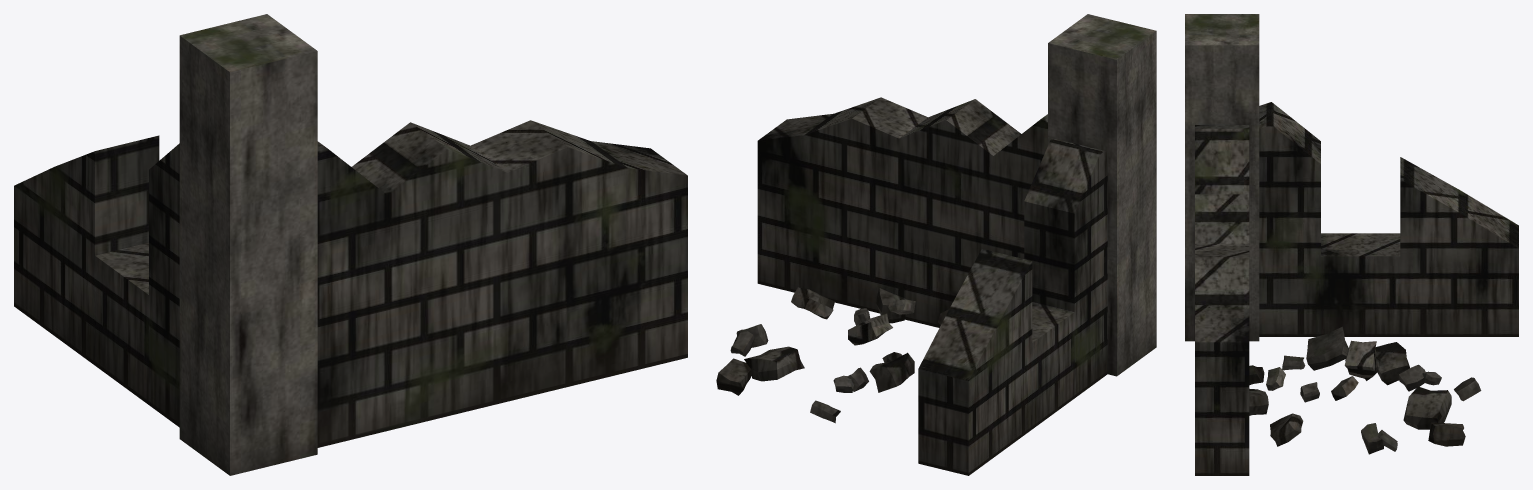
The model's file is ruin_wall_b.glb.
3 views of the same model, side by side, from view 1: azimuth 30°, elevation 25°; view 2: azimuth 150°, elevation 25°; view 3: azimuth 270°, elevation 25° (orthographic). The views are drawn at different scales.
Visible parts, largest first — view 1: ruin_wall_b; view 2: ruin_wall_b; view 3: ruin_wall_b.
Part boxes in pixels (x1=…): ruin_wall_b: x1=14, y1=14, x2=687, y2=475; ruin_wall_b: x1=716, y1=14, x2=1156, y2=475; ruin_wall_b: x1=1185, y1=14, x2=1518, y2=475.
Size of the model in its own units: 3.97 by 3.45 by 3.38.
1 material, 1 textured.
